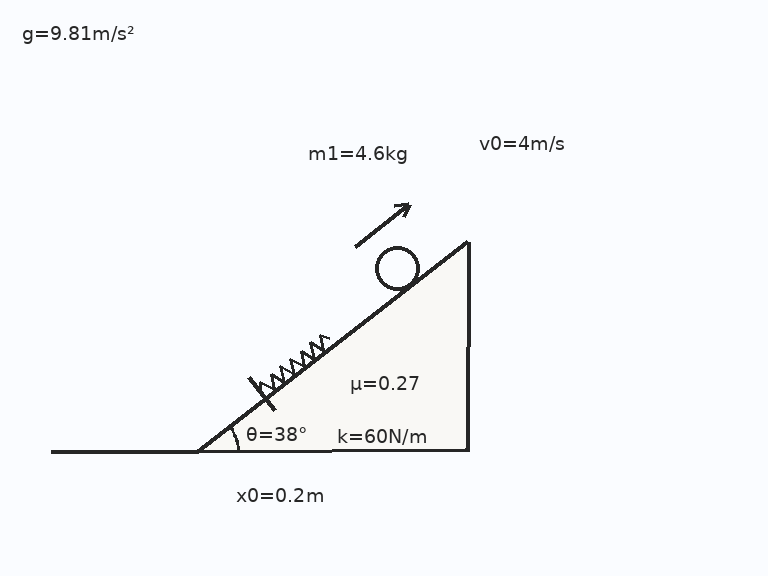ball: (373, 244, 421, 292)
ramp: (196, 239, 469, 453)
spring: (258, 333, 332, 393)
